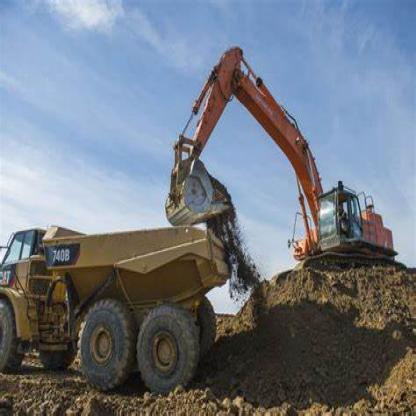dump_truck: (3, 215, 220, 403)
excavator: (144, 40, 404, 310)
